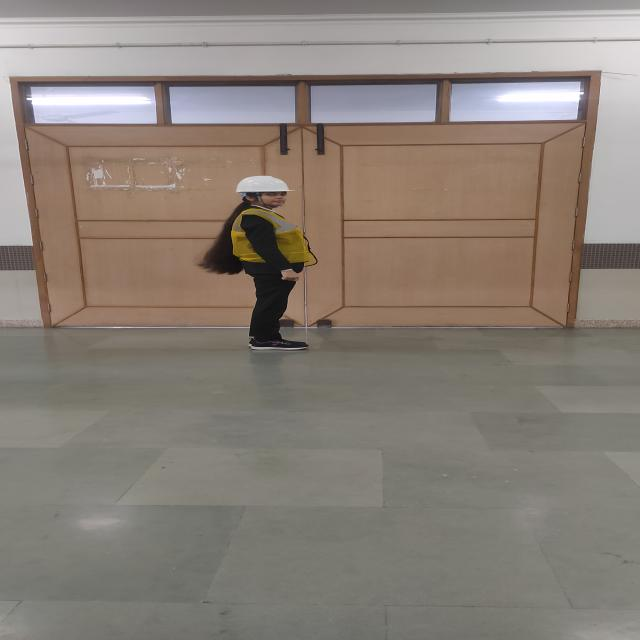safe: (230, 176, 322, 349)
